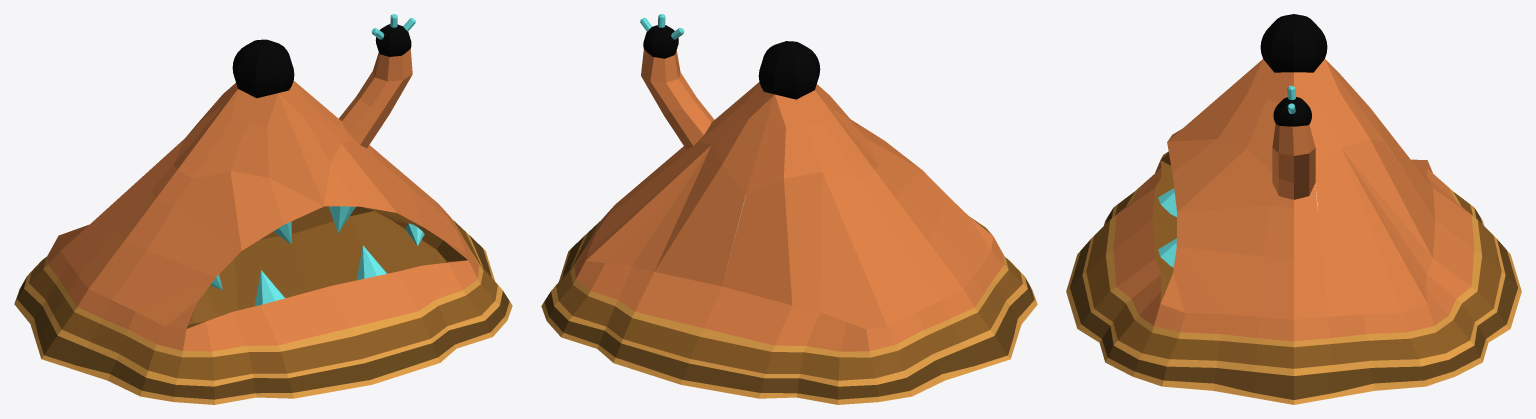
The model's file is fireslime.fbx.
3 views of the same model, side by side, from view 1: azimuth 30°, elevation 25°; view 2: azimuth 150°, elevation 25°; view 3: azimuth 270°, elevation 25° (orthographic). The views are drawn at different scales.
Parts seen in each view (by area): view 1: fireslime; view 2: fireslime; view 3: fireslime.
Boxes of the visible parts, x1,y1,x2,y2 form: fireslime: [14, 14, 512, 404]; fireslime: [541, 14, 1037, 404]; fireslime: [1066, 14, 1521, 404].
Bounding box in the file's own units: 235 × 133 × 200.
